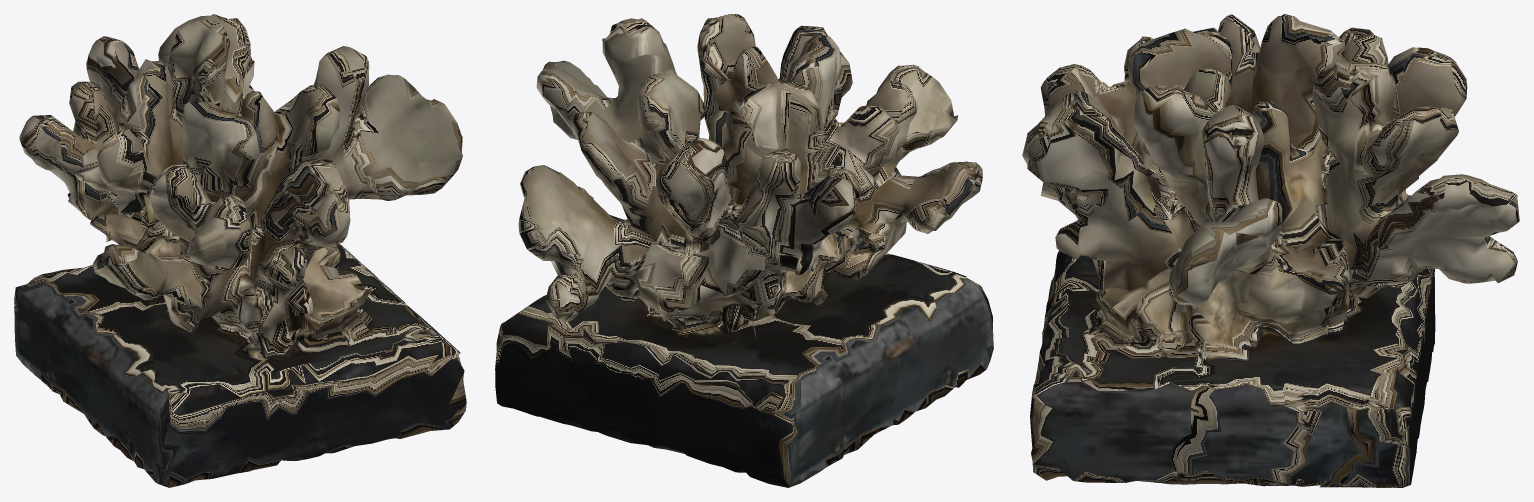
Rendered from coral-sideropora.glb.
3 renders of one model, left to right at view 1: azimuth 30°, elevation 25°; view 2: azimuth 150°, elevation 25°; view 3: azimuth 270°, elevation 25°, orthographic. The views are drawn at different scales.
Bounding box in the file's own units: 0.0974 × 0.0796 × 0.0995.
1 material, 1 textured.
